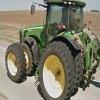Tractor: (2, 1, 100, 100)
